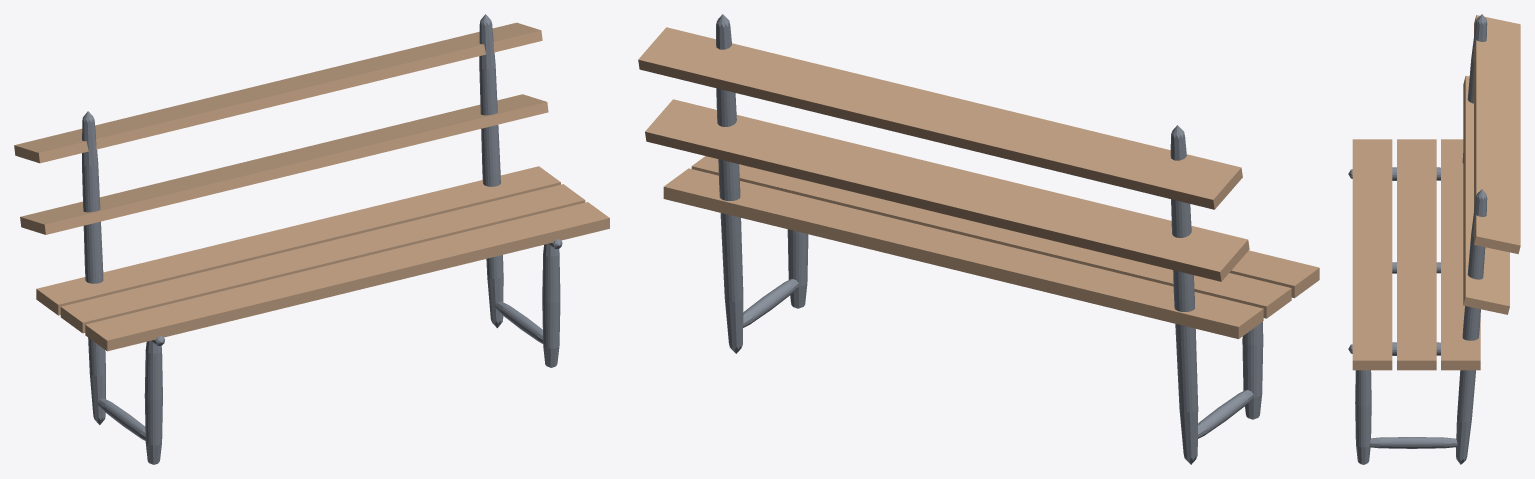
The model's file is banco.glb.
The picture shows the model from 3 angles, left to right: view 1: azimuth 30°, elevation 25°; view 2: azimuth 150°, elevation 25°; view 3: azimuth 270°, elevation 25°; orthographic projection. The views are drawn at different scales.
Visible parts, largest first — view 1: Banco; view 2: Banco; view 3: Banco.
Boxes of the visible parts, left/top/right/bottom form: Banco: left=14, top=14, right=609, bottom=464; Banco: left=638, top=14, right=1319, bottom=464; Banco: left=1348, top=14, right=1520, bottom=464.
Size of the model in its own units: 1.72 by 1 by 0.5667.
